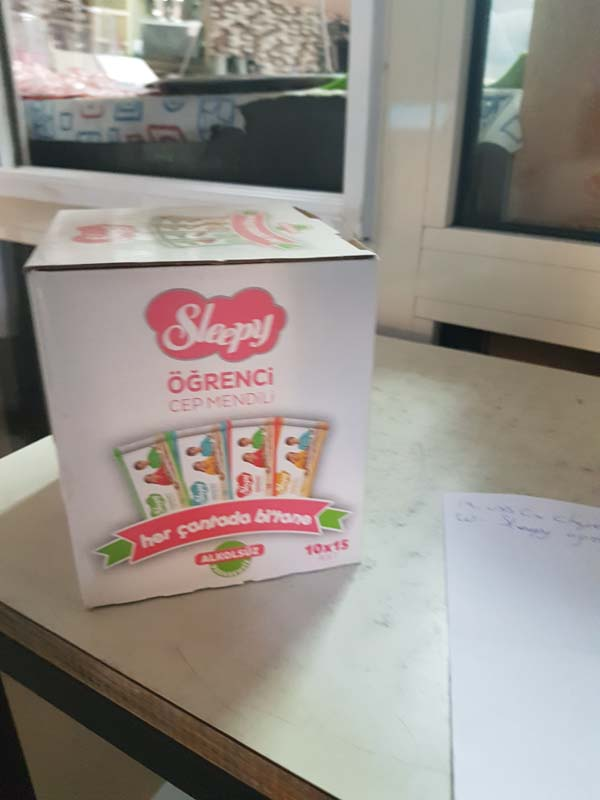sleepyogrencikoli: (25, 204, 390, 622)
